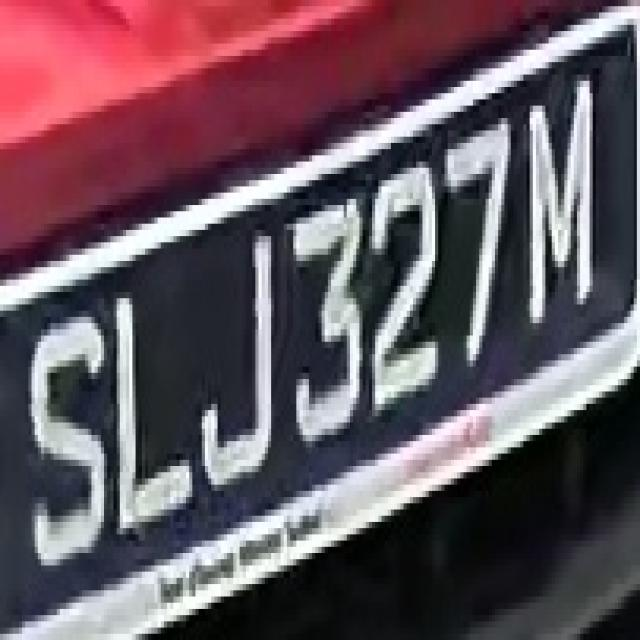2: (362, 162, 448, 428)
3: (287, 192, 375, 448)
7: (438, 130, 520, 398)
J: (186, 205, 281, 510)
L: (110, 273, 199, 553)
M: (524, 81, 602, 348)
S: (22, 286, 110, 584)
